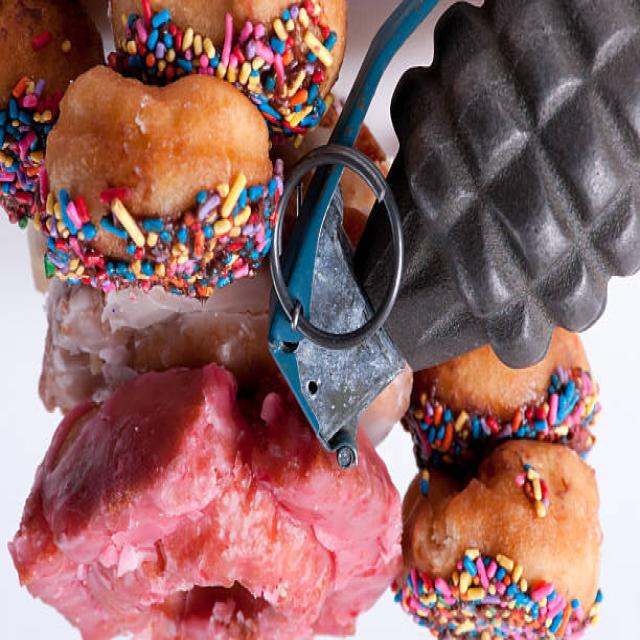grenade: (261, 1, 640, 474)
